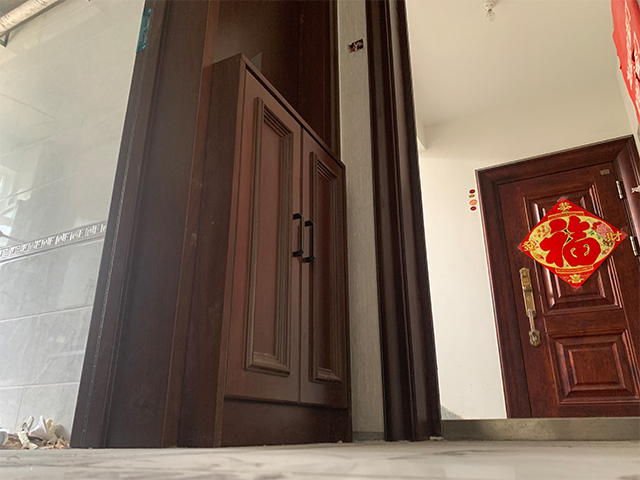cabinet: (178, 49, 354, 449)
